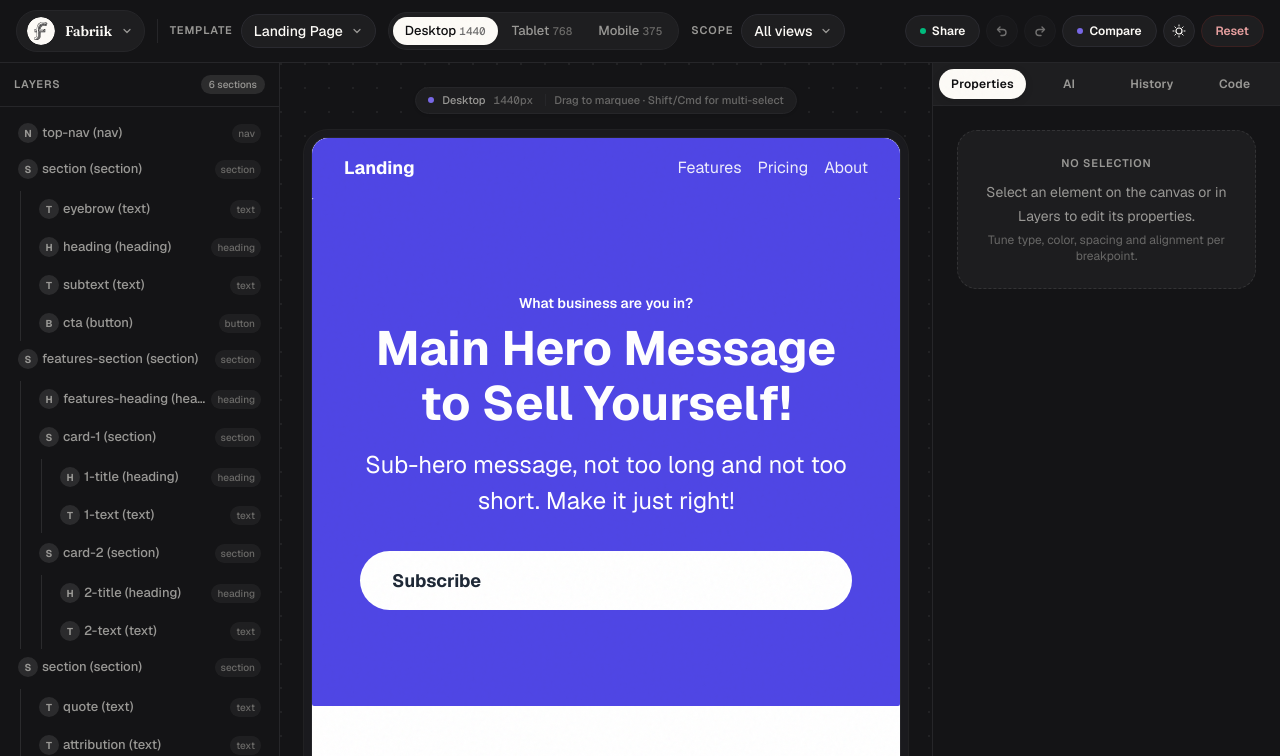
Test: EditorShell AI tab › labels the AI tab "AI" and opens the AI panel from it
Click the tab "AI" at point(1069, 84), box [1030,69,1109,99]
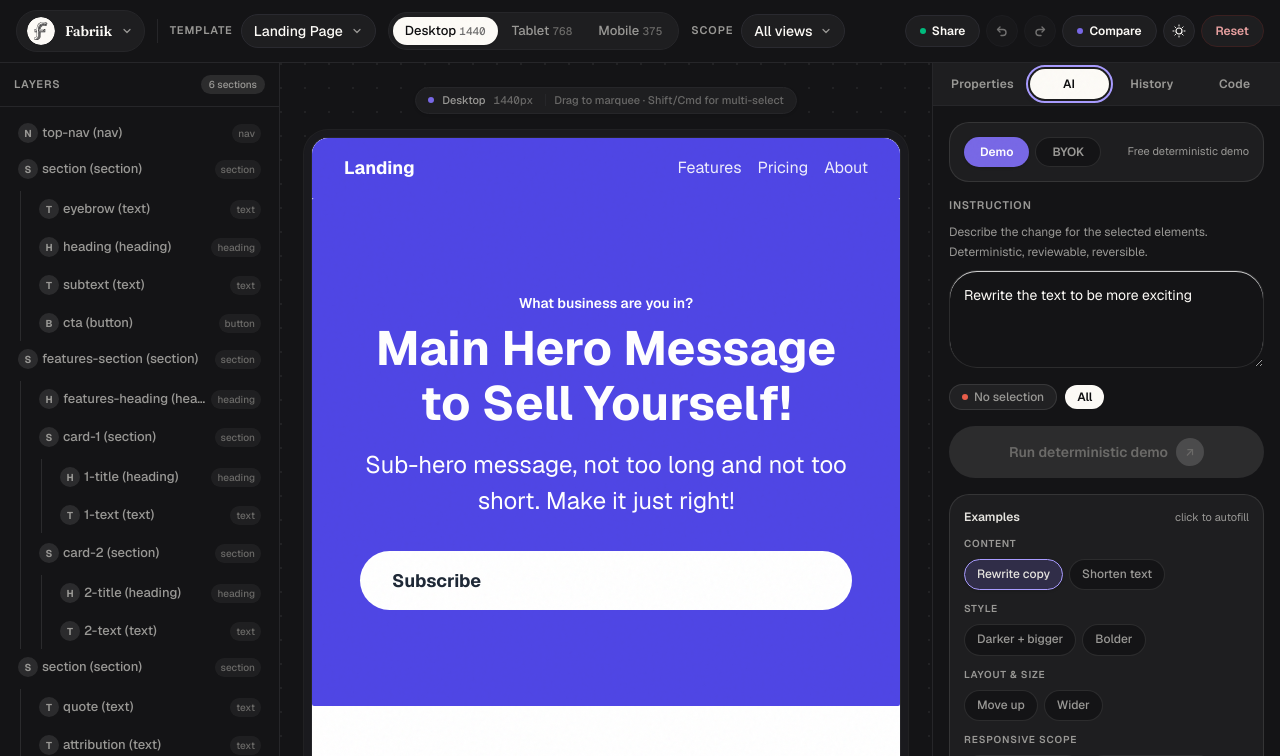
Expected: the button "Run deterministic demo ↗" is shown, [949,426,1264,478]
